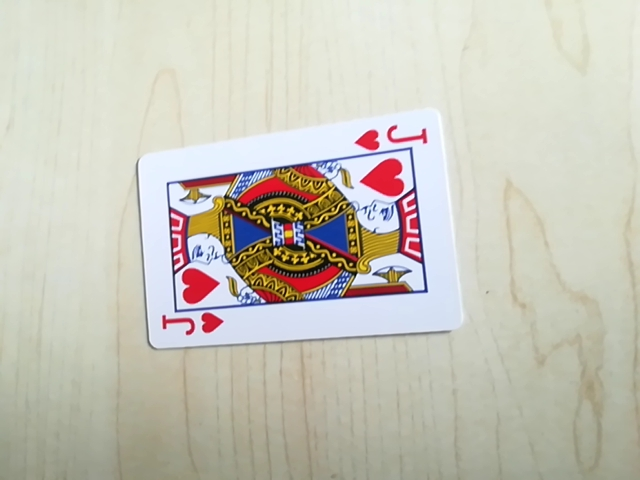hx j: (353, 121, 430, 155), (157, 308, 224, 344)
